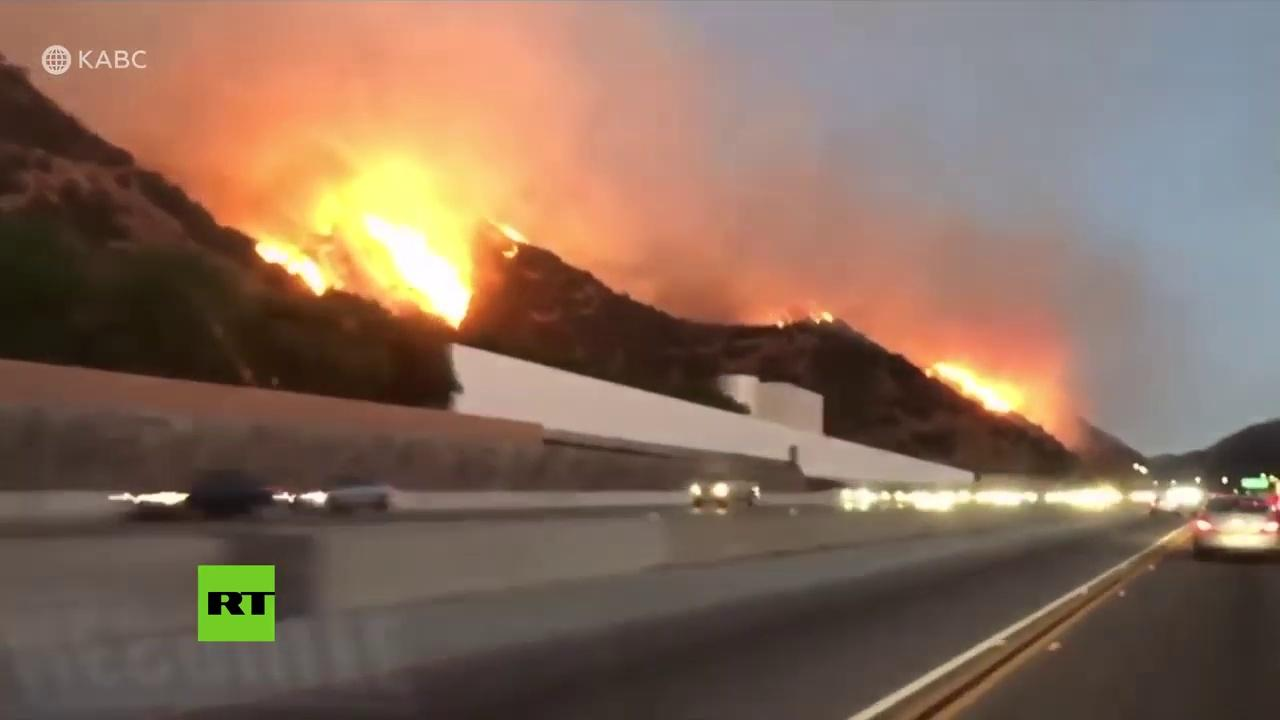Fire: (248, 191, 469, 330), (929, 359, 1028, 416), (492, 220, 532, 259), (815, 312, 835, 323)
